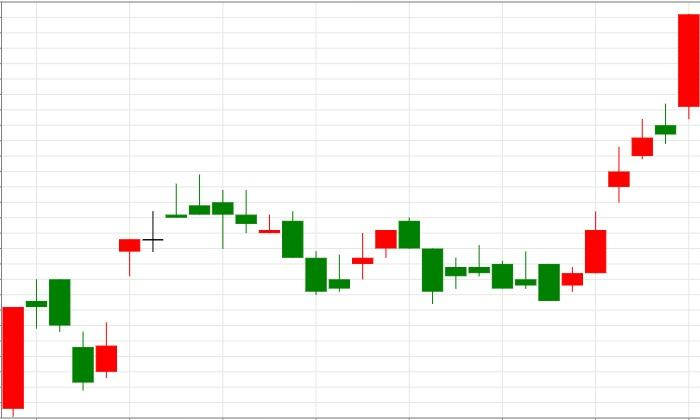three_white_soldiers_rise: (398, 146, 630, 304)
